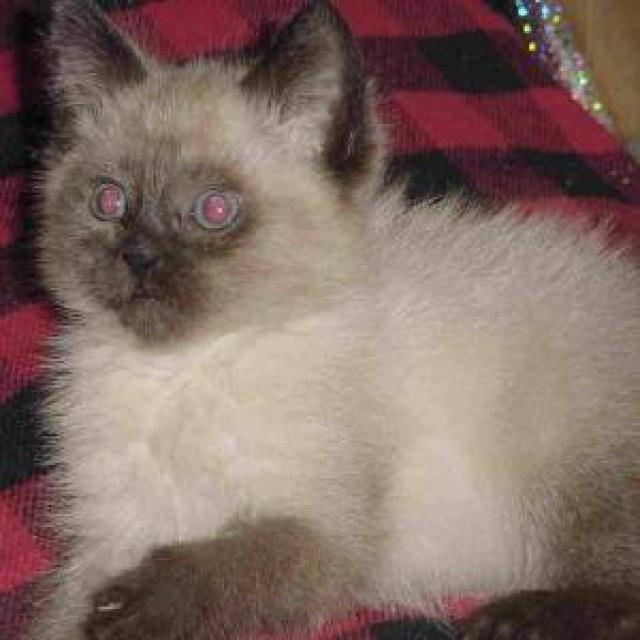Siamese: (32, 0, 377, 349)
